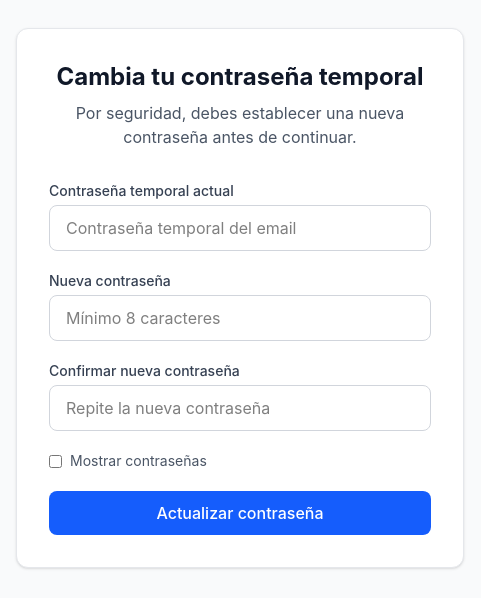
Test case: PasswordChangeRequiredPage › shows error when newPassword is less than 8 characters
The width and height of the screenshot is (481, 598).
Step 1. Type "TempPass123" into the password field labelled "Contraseña temporal actual" → (240, 228), box left=49, top=205, right=431, bottom=251
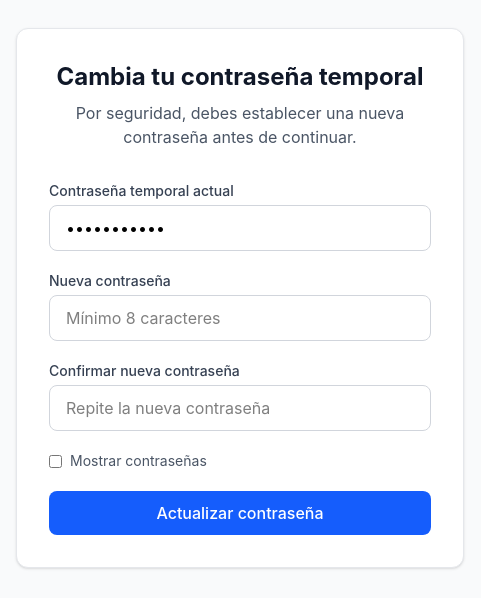
Step 2. Type "Short1" into the password field labelled "Nueva contraseña" → (240, 318), box left=49, top=295, right=431, bottom=341
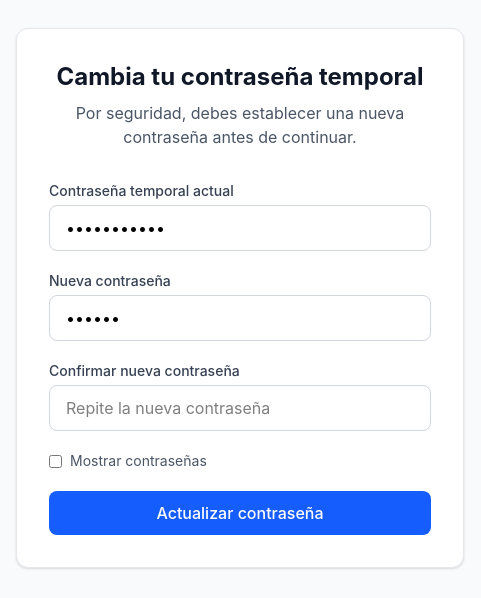
Step 3. Type "Short1" into the password field labelled "Confirmar nueva contraseña" → (240, 408), box left=49, top=385, right=431, bottom=431
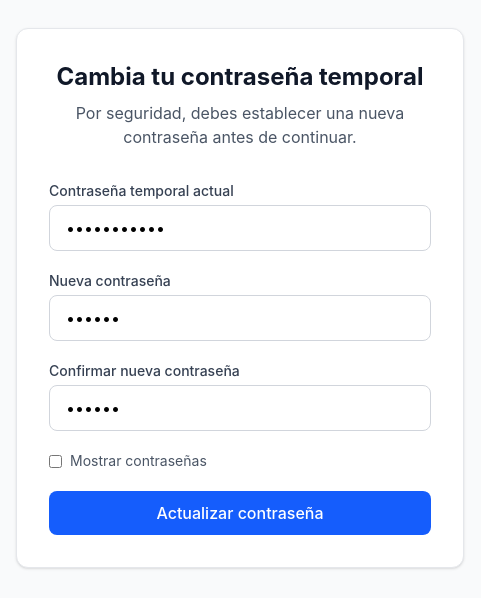
Step 4. Click the button "Actualizar contraseña" → (240, 513), box left=49, top=491, right=431, bottom=535
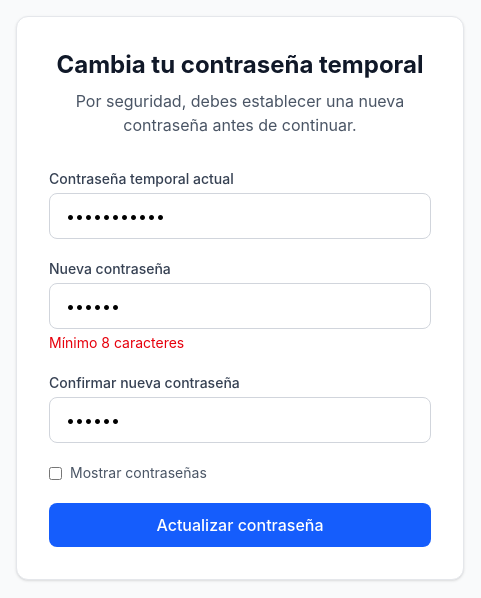
Check: the text "Mínimo 8 caracteres" is shown, box left=49, top=334, right=184, bottom=351
